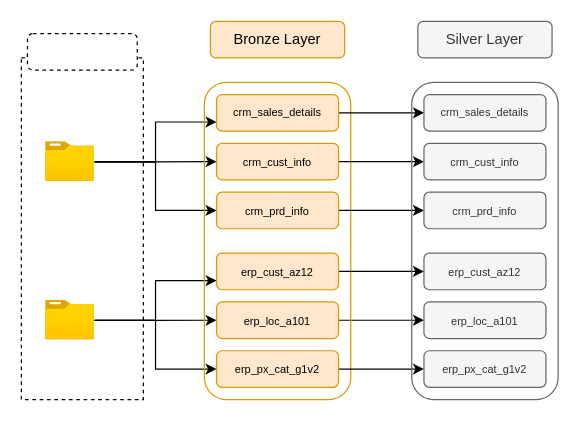
Some shapes in this 580 by 421 pixel diagram are drawn without their labels. The shapes that lost their labels are listed below. From the top down, each one's centre as x and y in pixels, then its label:
the point at 81,51: Sources
the point at 69,161: CRM
the point at 69,320: ERP
